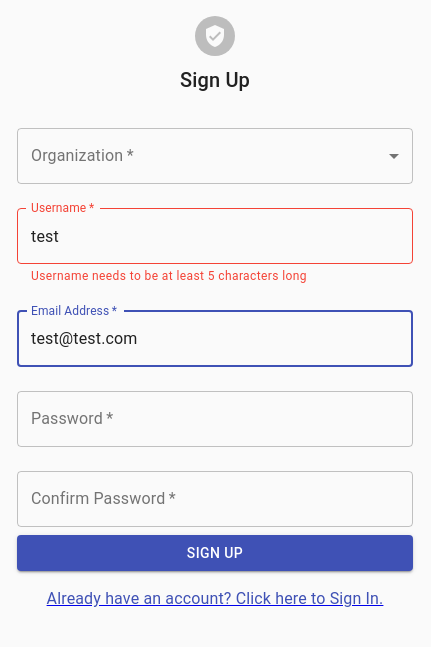
Test: Login Process › check email invalid
This screenshot has width=431, height=647.
Step 1. Replace the text in the field with id "email" with "testtest.com" → (215, 339), box top-left (17, 311), bottom-right (413, 367)
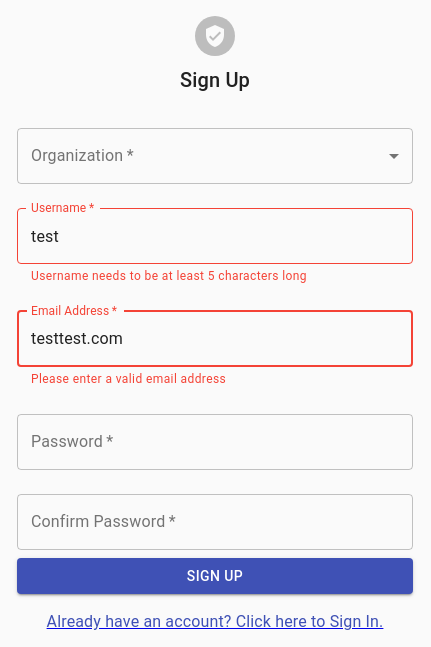
Expected: the text "Please enter a valid email address" is shown, top-left (31, 372), bottom-right (226, 386)
